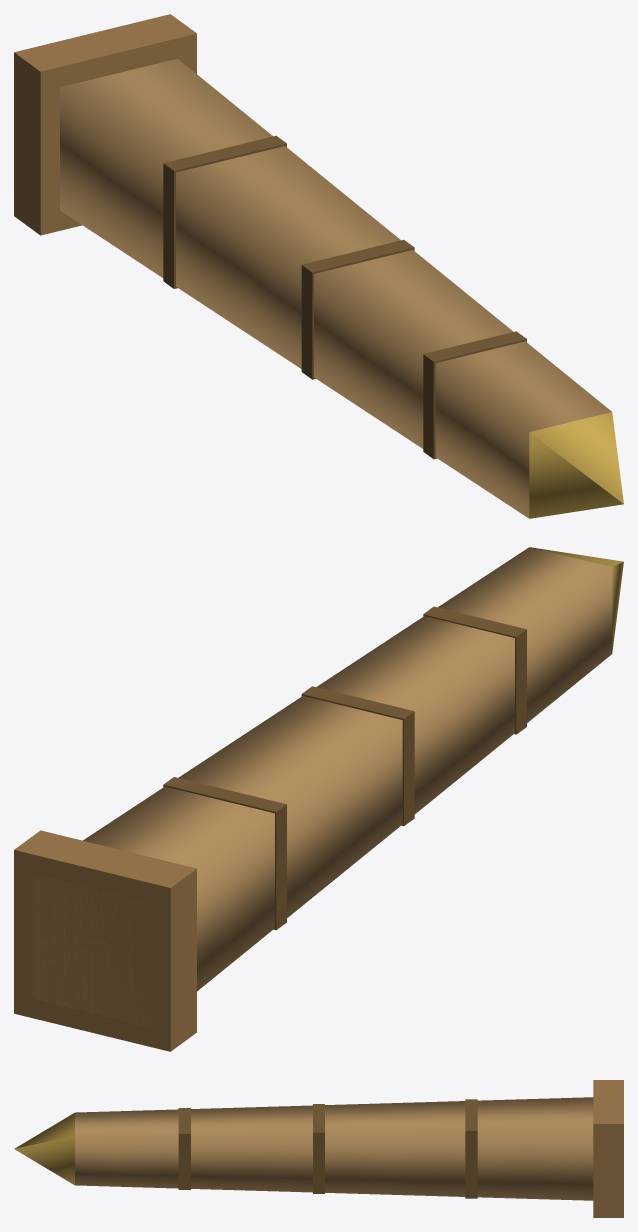
The model's file is obelisk.glb.
The picture shows the model from 3 angles, top to bottom: view 1: azimuth 30°, elevation 25°; view 2: azimuth 150°, elevation 25°; view 3: azimuth 270°, elevation 25°; orthographic projection. The views are drawn at different scales.
Visible parts, largest first — view 1: ObeliskMesh; view 2: ObeliskMesh; view 3: ObeliskMesh.
Part boxes in pixels (x1=…): ObeliskMesh: x1=14, y1=14, x2=623, y2=518; ObeliskMesh: x1=14, y1=547, x2=623, y2=1051; ObeliskMesh: x1=14, y1=1080, x2=623, y2=1217.
Size of the model in its own units: 0.17 by 0.17 by 1.
